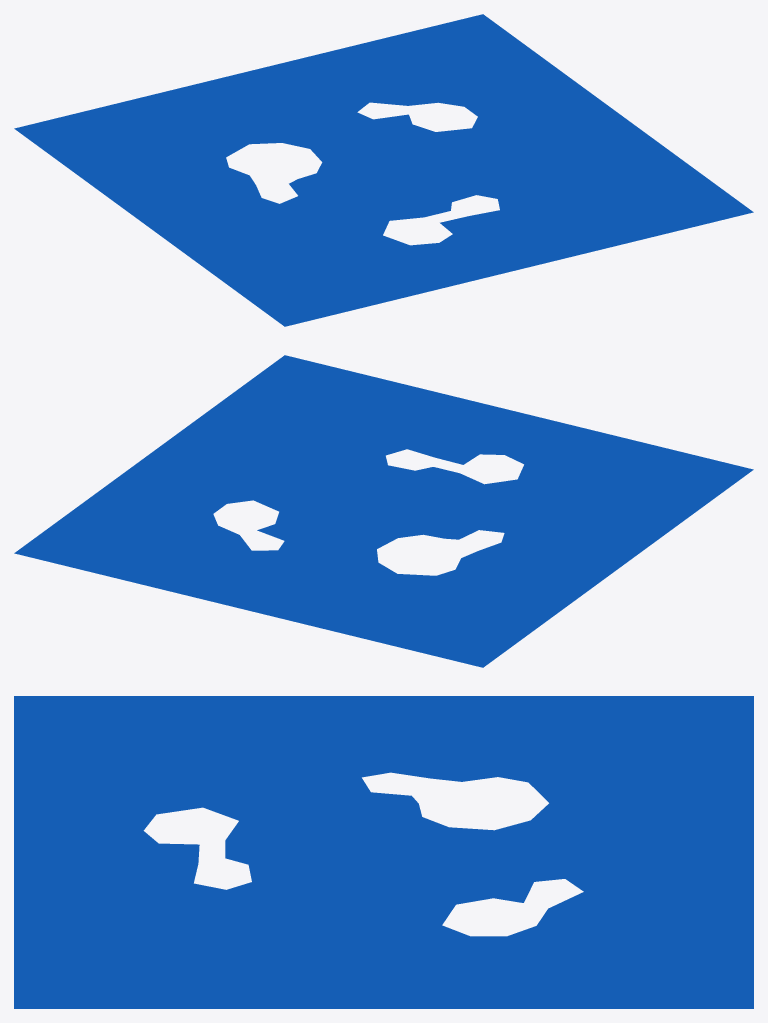
Rendered from forest-navmesh-transformed.glb.
3 views of the same model, one above another, from view 1: azimuth 30°, elevation 25°; view 2: azimuth 150°, elevation 25°; view 3: azimuth 270°, elevation 25° (orthographic). The views are drawn at different scales.
Parts seen in each view (by area): view 1: Navmesh; view 2: Navmesh; view 3: Navmesh.
Boxes of the visible parts, x1,y1,x2,y2 form: Navmesh: [14, 14, 753, 326]; Navmesh: [14, 355, 753, 667]; Navmesh: [14, 696, 753, 1008].
Bounding box in the file's own units: 8.39 × 0 × 8.39.
Materials: 1 (1 with a texture image).
